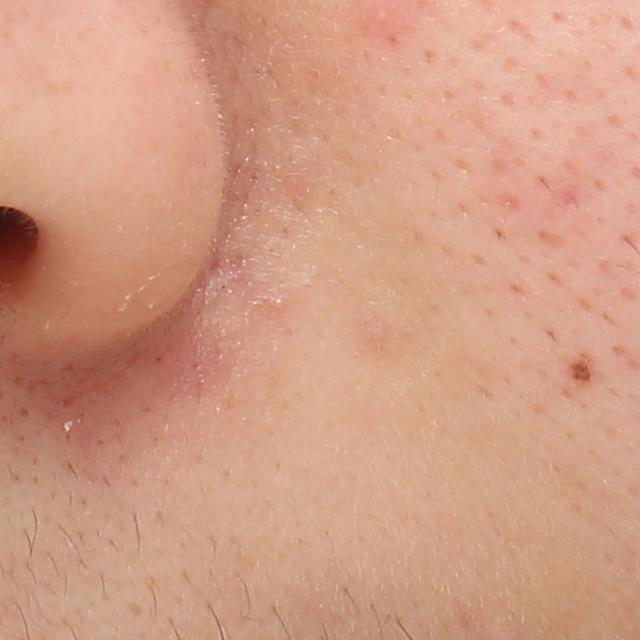nevus: (568, 357, 594, 383)
